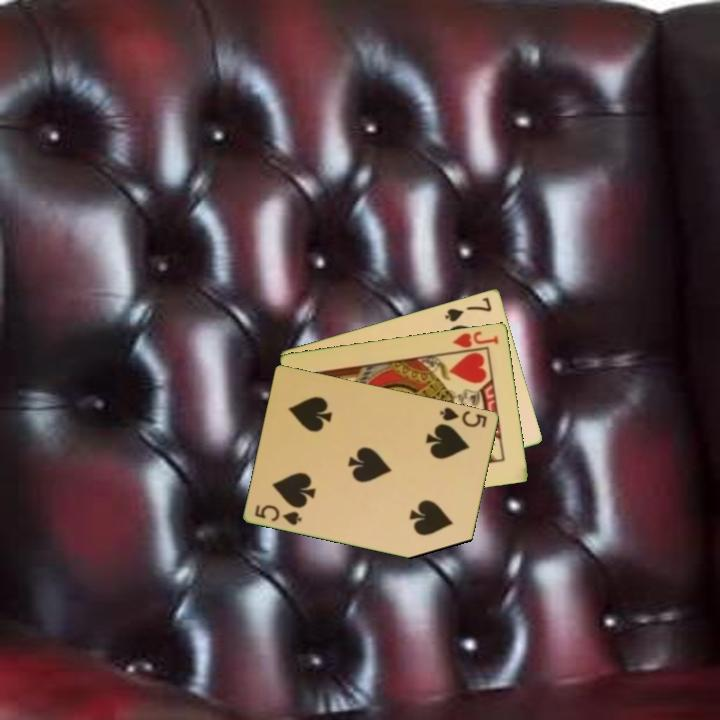5s: (436, 403, 490, 430), (251, 501, 305, 528)
7s: (441, 293, 495, 324)
Jh: (449, 327, 502, 351)
